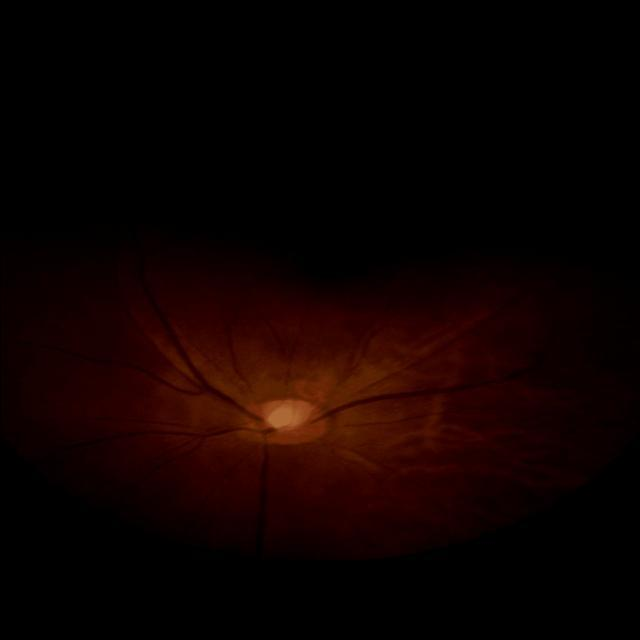cup: (257, 406, 308, 433)
disk: (238, 399, 330, 447)
